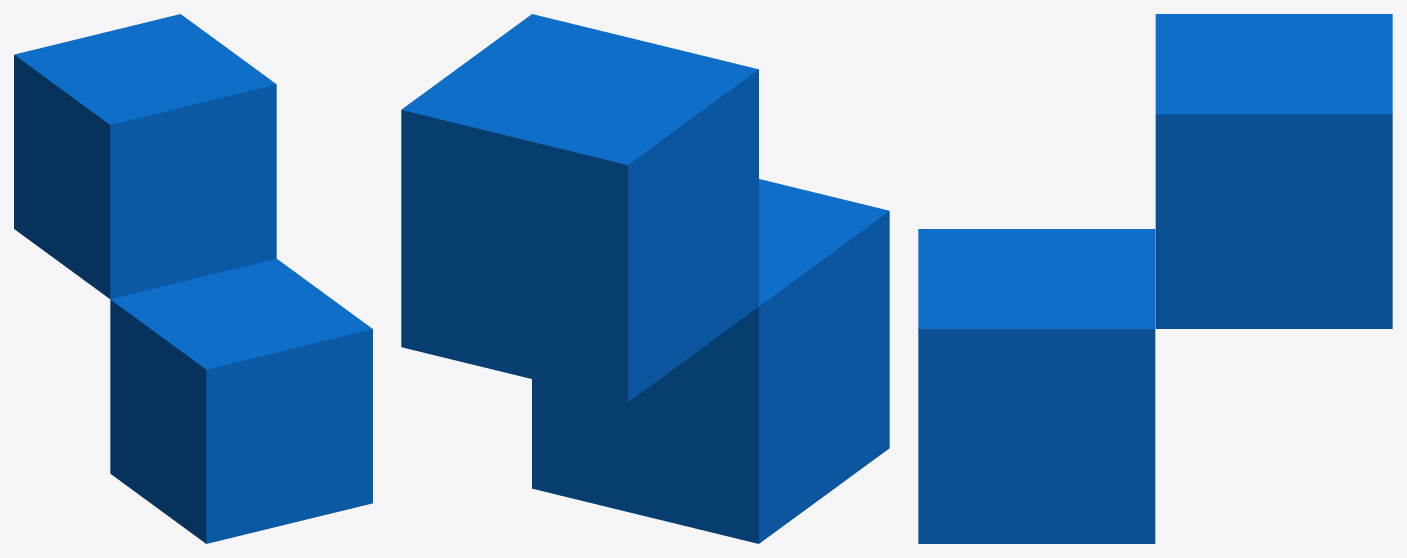
Rendered from boxTwoMeshes.fbx.
The picture shows the model from 3 angles, left to right: view 1: azimuth 30°, elevation 25°; view 2: azimuth 150°, elevation 25°; view 3: azimuth 270°, elevation 25°; orthographic projection. The views are drawn at different scales.
Parts seen in each view (by area): view 1: box_001, box_002; view 2: box_002, box_001; view 3: box_001, box_002.
Boxes of the visible parts, x1,y1,x2,y2 form: box_001: (110, 258, 372, 543); box_002: (14, 14, 276, 299); box_002: (401, 14, 758, 402); box_001: (532, 179, 889, 543); box_001: (918, 229, 1155, 543); box_002: (1155, 14, 1392, 328).
Size of the model in its own units: 100 by 200 by 200.
